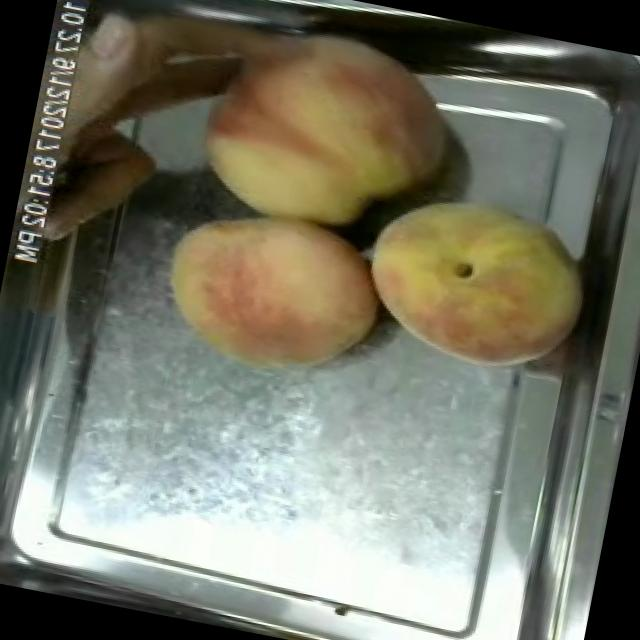Fruit: (166, 0, 479, 253), (342, 172, 603, 395), (134, 188, 402, 401)
